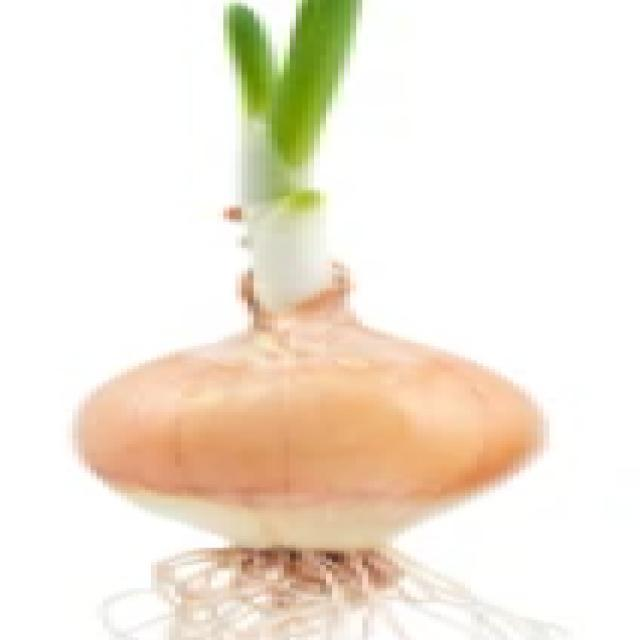sprouting: (156, 28, 398, 314)
